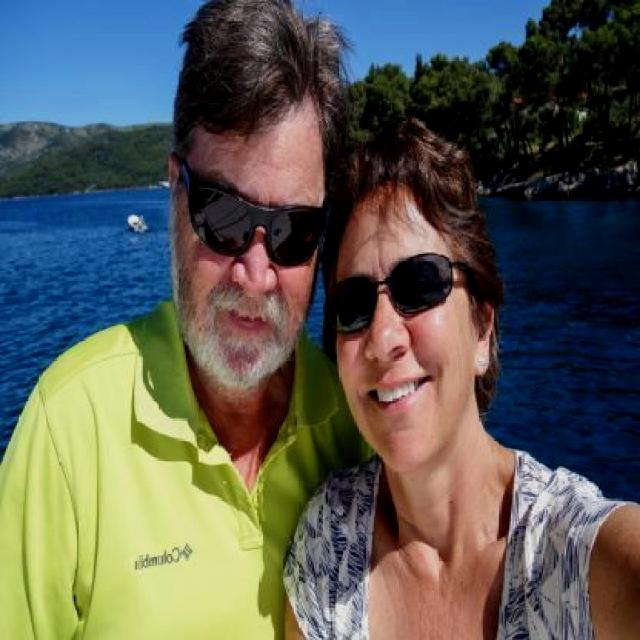face_nomask: (188, 190, 326, 338), (345, 245, 458, 424)
glasses: (182, 172, 330, 262), (322, 247, 455, 342)
head_nohelmet: (184, 0, 350, 149), (339, 98, 475, 228)
person: (0, 11, 371, 640), (346, 120, 640, 640)
